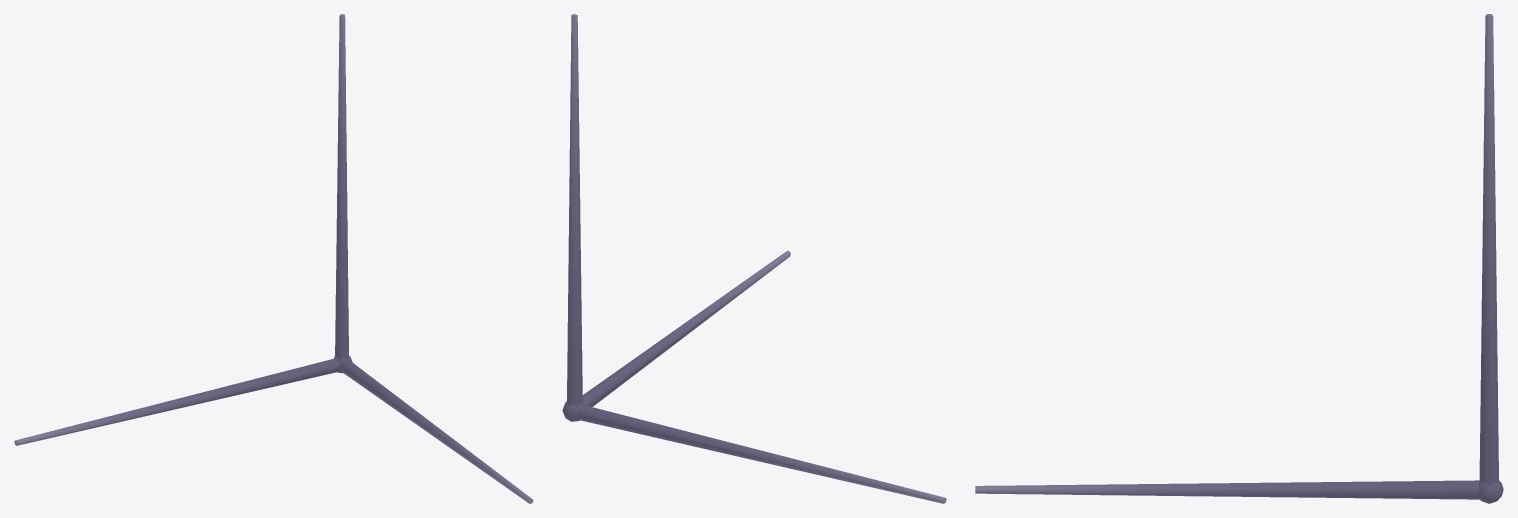
File: prism_corner.glb
3 renders of one model, left to right at view 1: azimuth 30°, elevation 25°; view 2: azimuth 150°, elevation 25°; view 3: azimuth 270°, elevation 25°, orthographic. The views are drawn at different scales.
Parts seen in each view (by area): view 1: Cone004; view 2: Cone004; view 3: Cone004.
Part boxes in pixels (x1=…): Cone004: x1=14, y1=14, x2=533, y2=503; Cone004: x1=562, y1=14, x2=946, y2=503; Cone004: x1=975, y1=14, x2=1503, y2=503.
Size of the model in its own units: 0.257 by 0.2615 by 0.257.
Materials: 1 (1 with a texture image).
